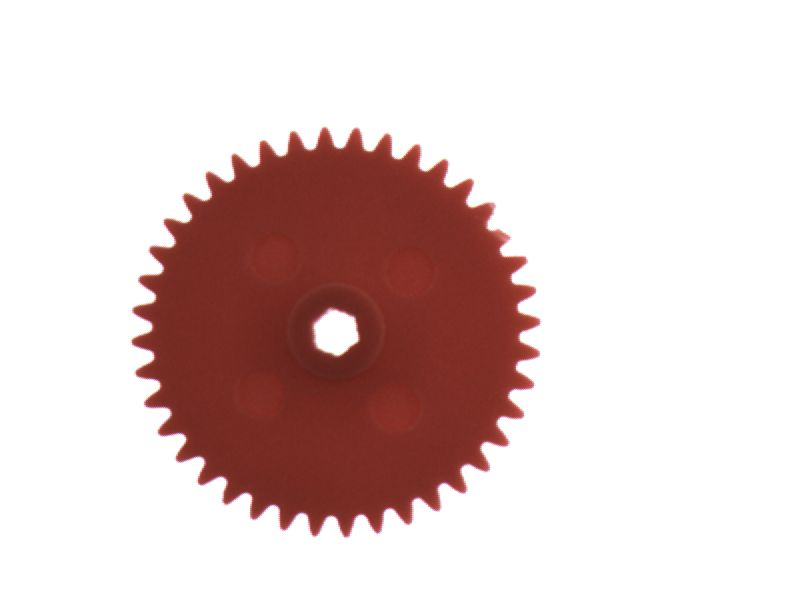defect_break: (481, 214, 528, 256)
